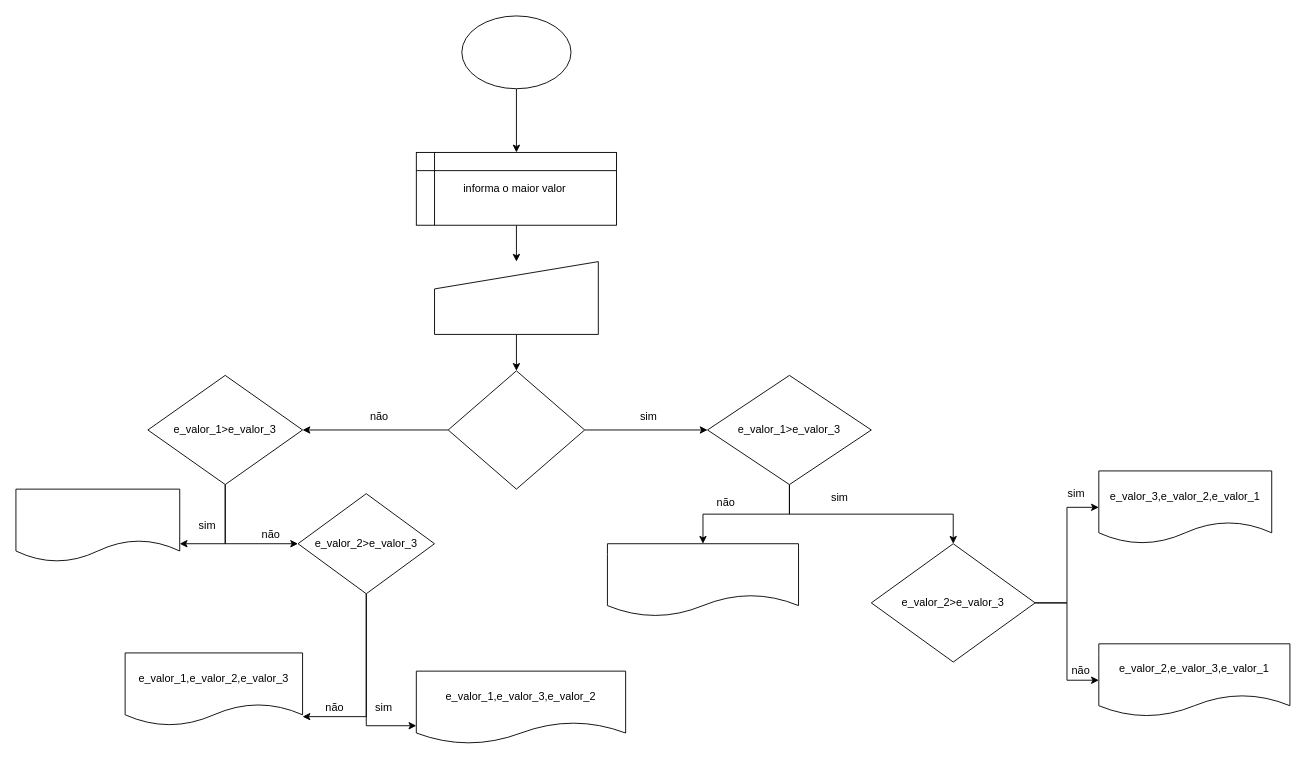
Image size: 1306x760. Some labels were removed from this diagram. The centre of each missing label's shape, as x and y in pixels:
"e_valor_1 > e_valor_2" goes at point (516, 429).
"e_valor_1; e_valor_2;e_valor_3" goes at point (516, 297).
"e_valor_2, e_valor_1,e_valor_3" goes at point (703, 580).
"e_valor_3, e_valor_1,e_valor_2" goes at point (97, 525).
"inicio" goes at point (516, 52).
